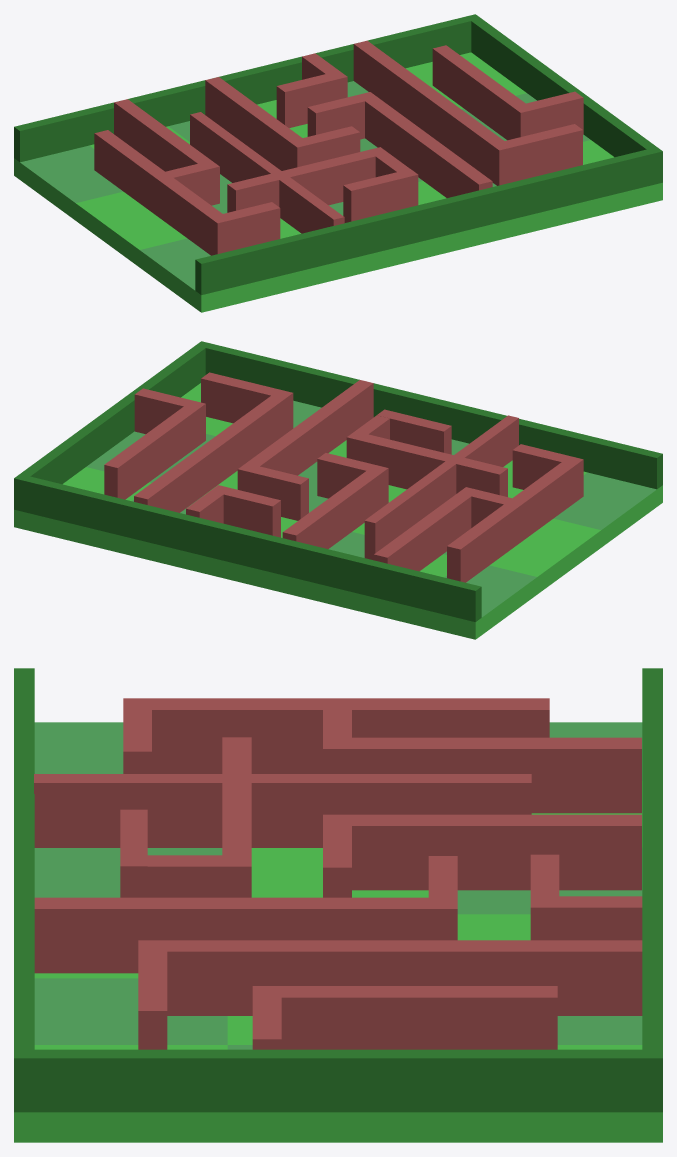
File: maze03.fbx
The picture shows the model from 3 angles, top to bottom: view 1: azimuth 30°, elevation 25°; view 2: azimuth 150°, elevation 25°; view 3: azimuth 270°, elevation 25°; orthographic projection. The views are drawn at different scales.
Visible parts, largest first — view 1: pasted__pasted__pCube7, pasted__pCube11 (×2), pasted__pasted__pasted__pasted__pCube11 (×2), pCube10, pasted__pasted__pasted__pCube11 (×2), pCube11, pasted__pasted__pCube11; view 2: pasted__pasted__pCube7, pasted__pasted__pasted__pasted__pCube11 (×2), pasted__pCube11 (×2), pCube10, pasted__pasted__pasted__pCube11 (×2), pCube11, pasted__pasted__pCube11; view 3: pasted__pasted__pCube7, pasted__pasted__pasted__pasted__pCube11 (×2), pCube10, pasted__pCube11 (×2), pasted__pasted__pasted__pCube11 (×2), pCube11, pasted__pasted__pCube11.
Boxes of the visible parts, box(x1,y1,x2,y2) form: pasted__pasted__pCube7: box(14, 14, 662, 312); pasted__pCube11 (×2): box(343, 40, 582, 222); pasted__pasted__pasted__pasted__pCube11 (×2): box(94, 99, 280, 255); pCube10: box(190, 112, 409, 233); pasted__pasted__pasted__pCube11 (×2): box(205, 53, 360, 170); pCube11: box(307, 92, 492, 197); pasted__pasted__pCube11: box(432, 45, 583, 140); pasted__pasted__pCube7: box(14, 341, 662, 639); pasted__pasted__pasted__pasted__pCube11 (×2): box(374, 444, 583, 582); pasted__pCube11 (×2): box(134, 372, 451, 512); pCube10: box(346, 415, 518, 560); pasted__pasted__pasted__pCube11 (×2): box(186, 453, 388, 548); pCube11: box(237, 380, 373, 520); pasted__pasted__pCube11: box(104, 388, 205, 499); pasted__pasted__pCube7: box(14, 668, 662, 1142); pasted__pasted__pasted__pasted__pCube11 (×2): box(123, 698, 641, 813); pCube10: box(34, 737, 531, 897); pasted__pCube11 (×2): box(120, 809, 642, 1049); pasted__pasted__pasted__pCube11 (×2): box(323, 814, 642, 940); pCube11: box(34, 856, 457, 973); pasted__pasted__pCube11: box(252, 986, 557, 1049).
Bounding box in the file's own units: 22.4 × 2.56 × 15.75.
